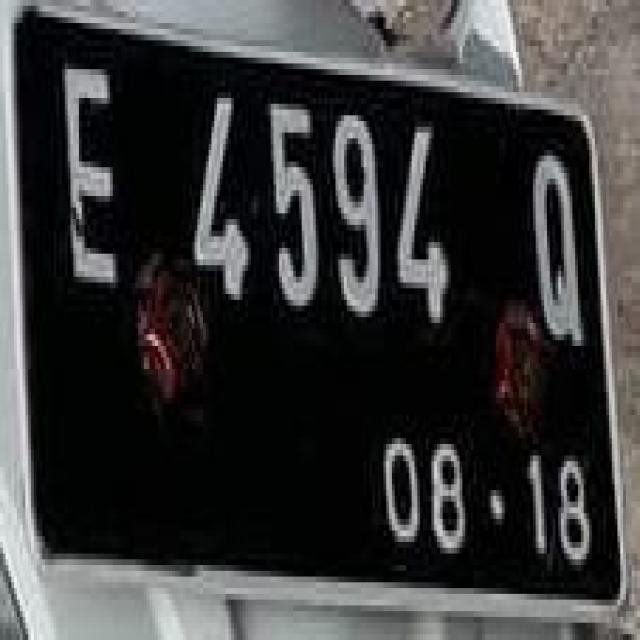4: (183, 81, 258, 313), (387, 111, 460, 330)
5: (260, 84, 330, 321)
9: (327, 95, 389, 328)
E: (53, 59, 124, 300)
Q: (523, 144, 591, 361)
